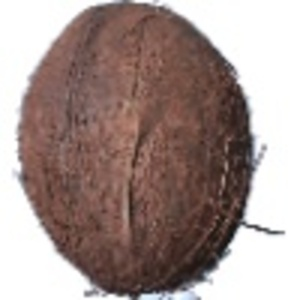coco: (15, 1, 282, 300)
